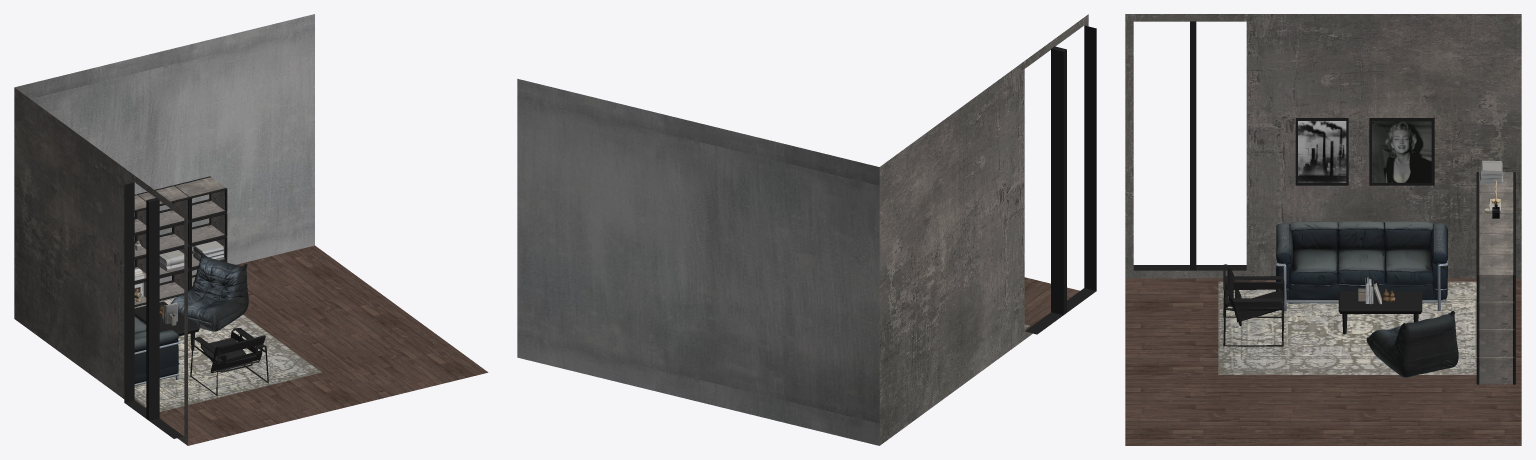
Rendered from apt_mini.glb.
The picture shows the model from 3 angles, left to right: view 1: azimuth 30°, elevation 25°; view 2: azimuth 150°, elevation 25°; view 3: azimuth 270°, elevation 25°; orthographic projection. The views are drawn at different scales.
Visible parts, largest first — view 1: mini; view 2: mini; view 3: mini.
Boxes of the visible parts, x1,y1,x2,y2 form: mini: (14, 14, 488, 445); mini: (517, 14, 1096, 445); mini: (1125, 14, 1521, 445).
Size of the model in its own units: 5.91 by 4.23 by 5.71.
Materials: 11 (10 with a texture image).
